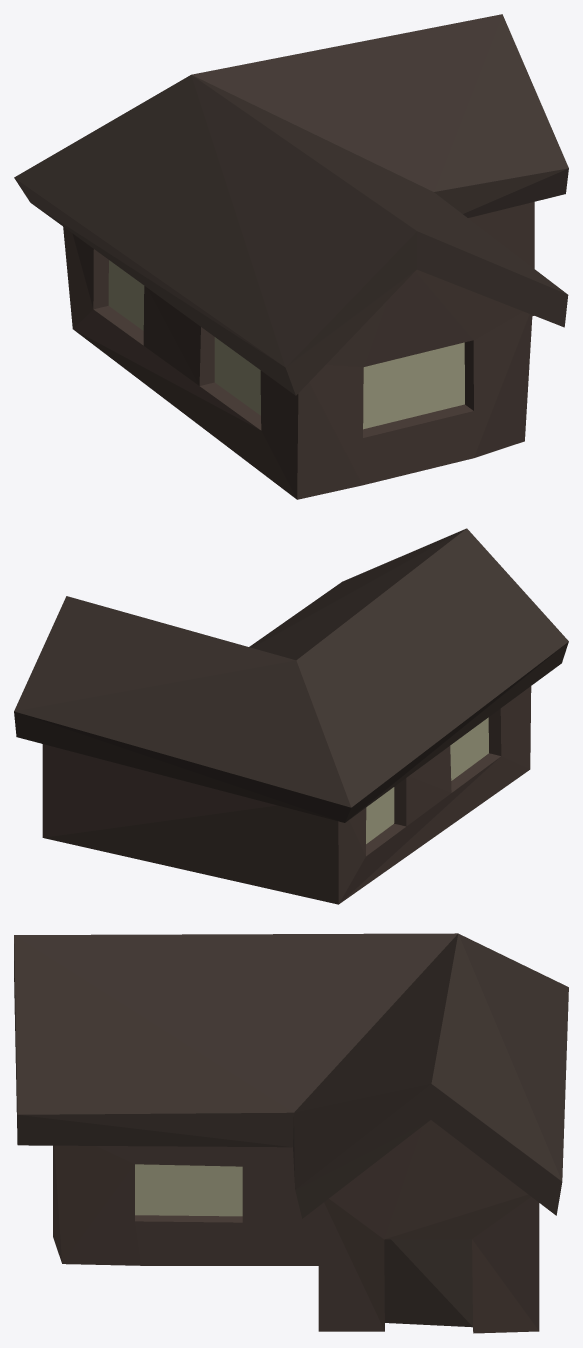
The model's file is cabin_2.fbx.
3 renders of one model, top to bottom at view 1: azimuth 30°, elevation 25°; view 2: azimuth 150°, elevation 25°; view 3: azimuth 270°, elevation 25°, orthographic. The views are drawn at different scales.
Visible parts, largest first — view 1: pCube4; view 2: pCube4; view 3: pCube4.
Part boxes in pixels (left/top/right/bottom): pCube4: left=14, top=14, right=568, bottom=499; pCube4: left=14, top=528, right=568, bottom=904; pCube4: left=14, top=933, right=568, bottom=1333.
Bounding box in the file's own units: 1.8 × 1.06 × 2.02.
